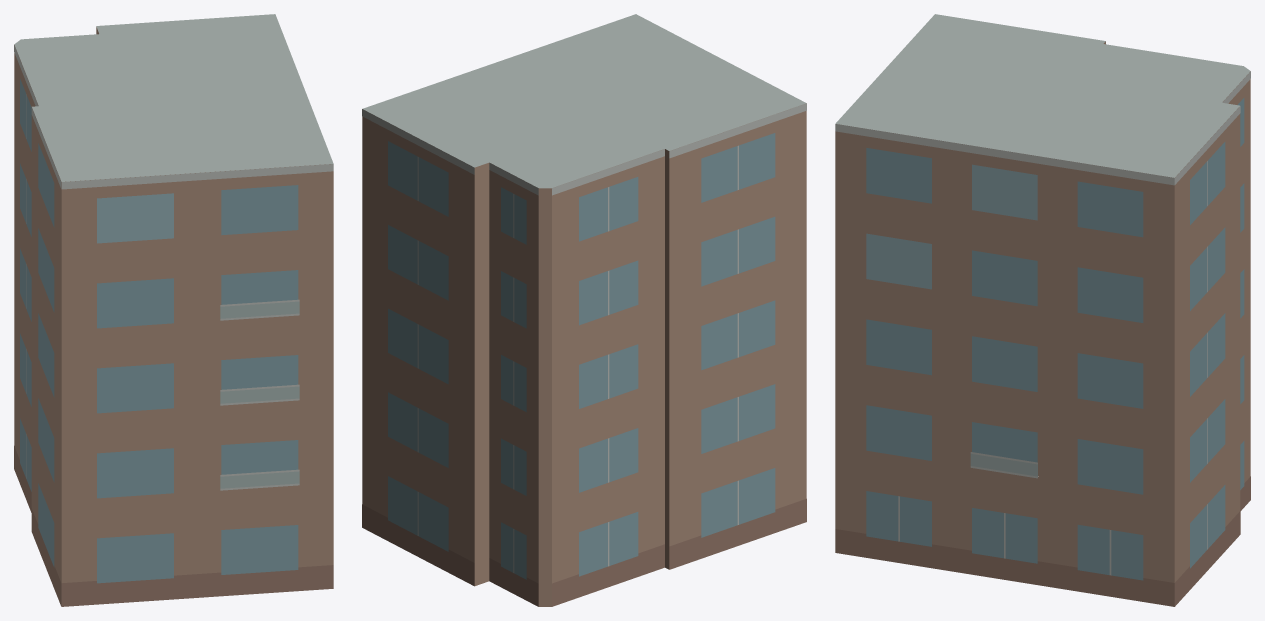
File: survey-upis-32628271.glb
The picture shows the model from 3 angles, left to right: view 1: azimuth 30°, elevation 25°; view 2: azimuth 150°, elevation 25°; view 3: azimuth 270°, elevation 25°; orthographic projection. The views are drawn at different scales.
Visible parts, largest first — view 1: survey-upis-32628271.tmp; view 2: survey-upis-32628271.tmp; view 3: survey-upis-32628271.tmp.
Boxes of the visible parts, left/top/right/bottom form: survey-upis-32628271.tmp: left=14, top=14, right=333, bottom=606; survey-upis-32628271.tmp: left=362, top=14, right=806, bottom=606; survey-upis-32628271.tmp: left=835, top=14, right=1250, bottom=606.
Size of the model in its own units: 11.31 by 13.8 by 12.12.
